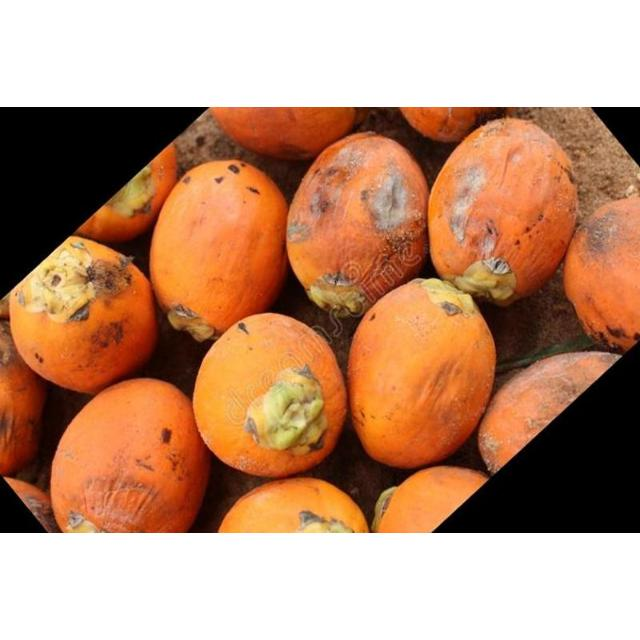good: (428, 118, 576, 306), (348, 280, 496, 466), (285, 132, 429, 318), (148, 160, 288, 342), (192, 314, 346, 474), (52, 378, 208, 532), (11, 238, 158, 392), (478, 352, 616, 473), (563, 197, 639, 353), (74, 140, 178, 242), (213, 108, 369, 162), (1, 318, 47, 474), (396, 108, 512, 144)
